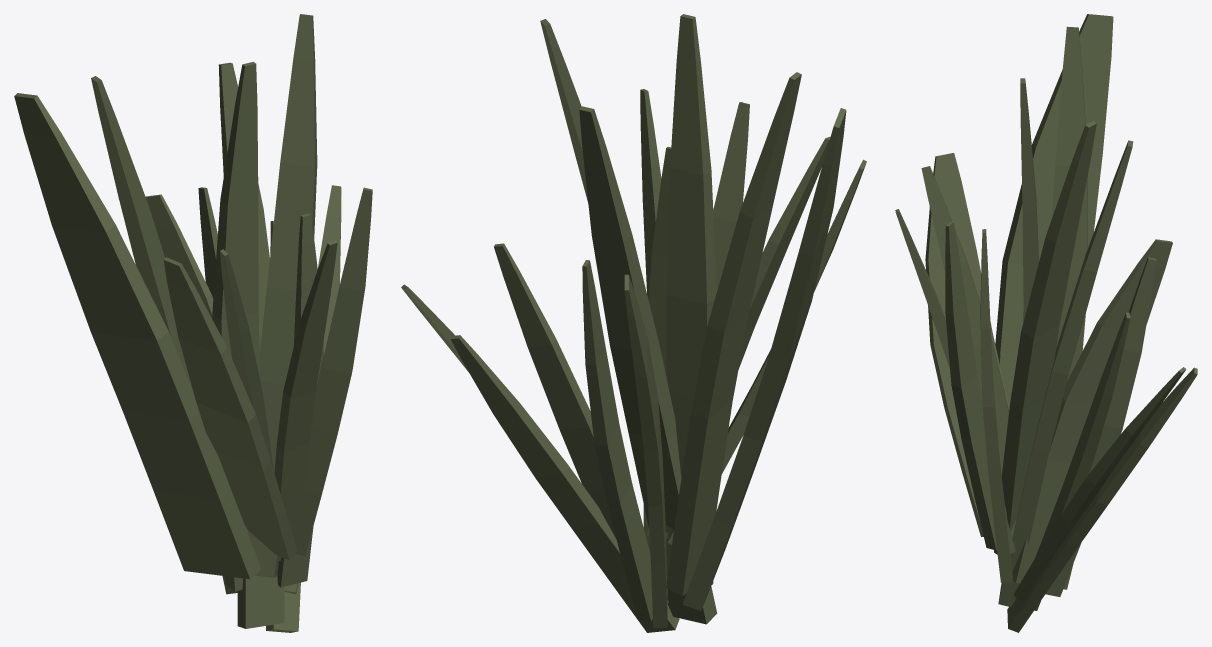
File: grass1.fbx
3 views of the same model, side by side, from view 1: azimuth 30°, elevation 25°; view 2: azimuth 150°, elevation 25°; view 3: azimuth 270°, elevation 25° (orthographic). The views are drawn at different scales.
Visible parts, largest first — view 1: Cube.015, Cube.020, Cube.016, Cube.021, Cube.014, Cube.019, Cube.018, Cube.017, Cube.023, Cube.022, Cube.025, Cube.026 (+2 smaller); view 2: Cube.018, Cube.014, Cube.017, Cube.015, Cube.027, Cube.028, Cube.024, Cube.025, Cube.019, Cube.023, Cube.022, Cube.021 (+3 smaller); view 3: Cube.016, Cube.015, Cube.025, Cube.017, Cube.021, Cube.020, Cube.018, Cube.027, Cube.026, Cube.022, Cube.028, Cube.023 (+3 smaller).
Part boxes in pixels (x1,y1,x2,y2): Cube.015: [14, 93, 261, 579]; Cube.020: [163, 257, 297, 560]; Cube.016: [248, 14, 317, 577]; Cube.021: [289, 187, 372, 555]; Cube.014: [212, 61, 260, 591]; Cube.019: [274, 240, 337, 561]; Cube.018: [91, 76, 193, 391]; Cube.017: [218, 62, 284, 628]; Cube.023: [220, 249, 273, 469]; Cube.022: [277, 213, 323, 587]; Cube.025: [145, 194, 237, 594]; Cube.026: [284, 185, 341, 594]; Cube.018: [666, 72, 801, 595]; Cube.014: [665, 14, 716, 584]; Cube.017: [579, 106, 717, 624]; Cube.015: [682, 108, 846, 610]; Cube.027: [450, 335, 679, 632]; Cube.028: [582, 260, 652, 621]; Cube.024: [494, 243, 668, 613]; Cube.025: [624, 274, 667, 628]; Cube.019: [647, 102, 749, 535]; Cube.023: [666, 137, 830, 538]; Cube.022: [643, 146, 671, 552]; Cube.021: [640, 89, 661, 299]; Cube.016: [994, 121, 1096, 554]; Cube.015: [995, 14, 1113, 405]; Cube.025: [1012, 239, 1172, 589]; Cube.017: [998, 140, 1133, 606]; Cube.021: [945, 221, 1007, 550]; Cube.020: [925, 153, 1009, 536]; Cube.018: [1052, 26, 1087, 381]; Cube.027: [1007, 367, 1197, 632]; Cube.026: [1013, 367, 1186, 602]; Cube.022: [980, 229, 1012, 582]; Cube.028: [1045, 257, 1156, 596]; Cube.023: [921, 166, 1016, 536].
Bounding box in the file's own units: 75.6 × 114 × 58.63.
